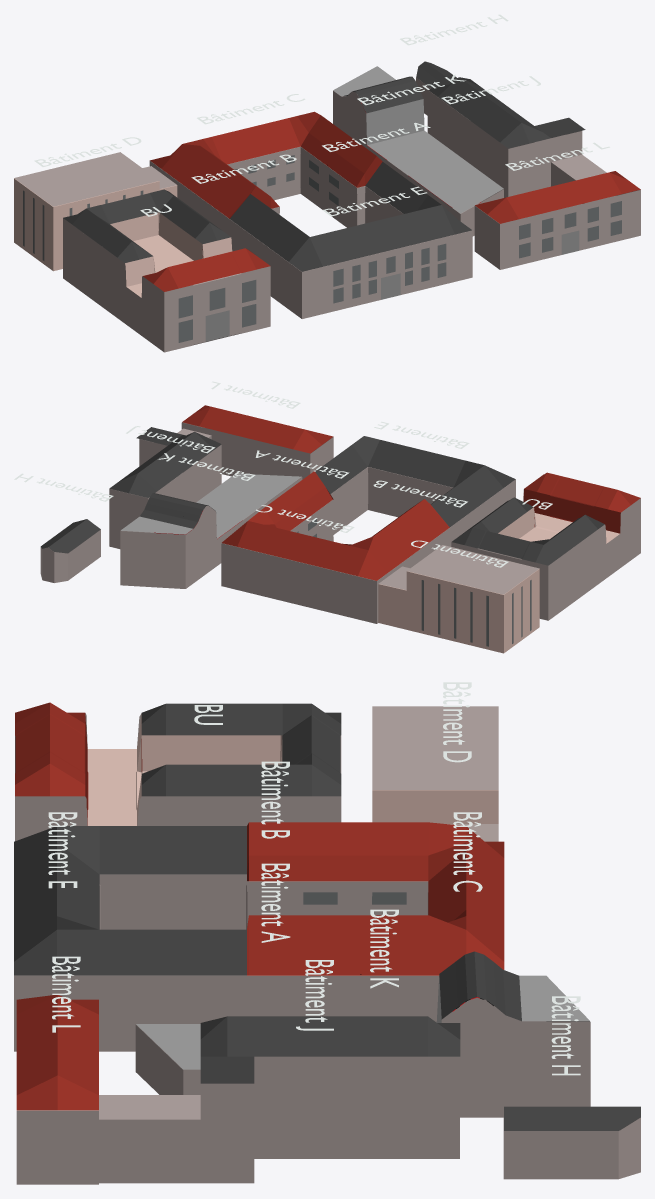
Rendered from planfac19.glb.
3 views of the same model, one above another, from view 1: azimuth 30°, elevation 25°; view 2: azimuth 150°, elevation 25°; view 3: azimuth 270°, elevation 25° (orthographic). The views are drawn at different scales.
Visible parts, largest first — view 1: toits, Bâtiment principal, Cube.001, Cube.005, Cube.006, Cube, Cube.004; view 2: toits, Bâtiment principal, Cube, Cube.004, Cube.001, Cube.006, Cube.005, Cube.007; view 3: toits, Cube.006, Bâtiment principal, Cube.004, Cube.001, Cube.007, Cube.005, Cube.
Part boxes in pixels (x1,y1,x2,y2): toits: (14, 14, 640, 297); Bâtiment principal: (149, 146, 472, 318); Cube.001: (63, 218, 270, 352); Cube.005: (474, 189, 640, 269); Cube.006: (427, 90, 614, 203); Cube: (14, 178, 177, 271); Cube.004: (333, 90, 503, 236); toits: (14, 381, 640, 594); Bâtiment principal: (221, 467, 515, 623); Cube: (378, 569, 539, 653); Cube.004: (120, 477, 302, 588); Cube.001: (451, 489, 640, 620); Cube.006: (109, 428, 221, 548); Cube.005: (181, 422, 333, 479); Cube.007: (40, 529, 100, 582); toits: (14, 682, 640, 1130); Cube.006: (92, 1056, 459, 1183); Bâtiment principal: (14, 874, 439, 1051); Cube.004: (135, 997, 590, 1117); Cube.001: (15, 713, 341, 841); Cube.007: (503, 1107, 640, 1179); Cube.005: (16, 1110, 98, 1184); Cube: (372, 790, 498, 823).
Bounding box in the file's own units: 18.21 × 3.07 × 12.02.
